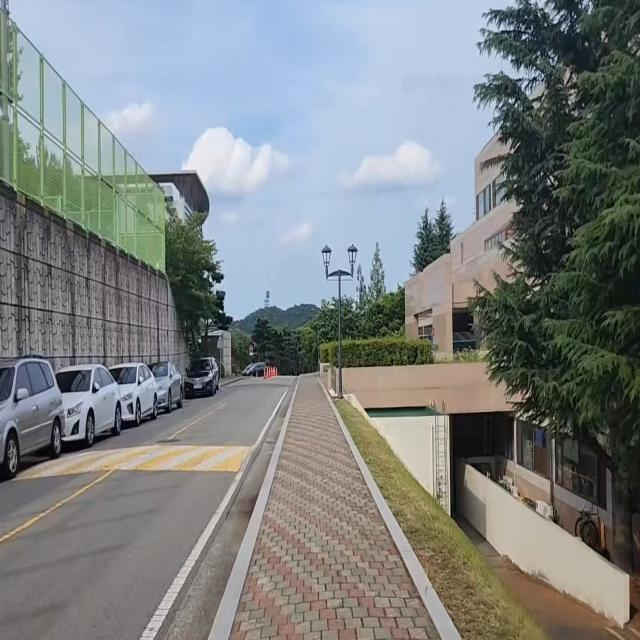road: (0, 381, 297, 640)
sidewalk: (206, 376, 470, 640)
